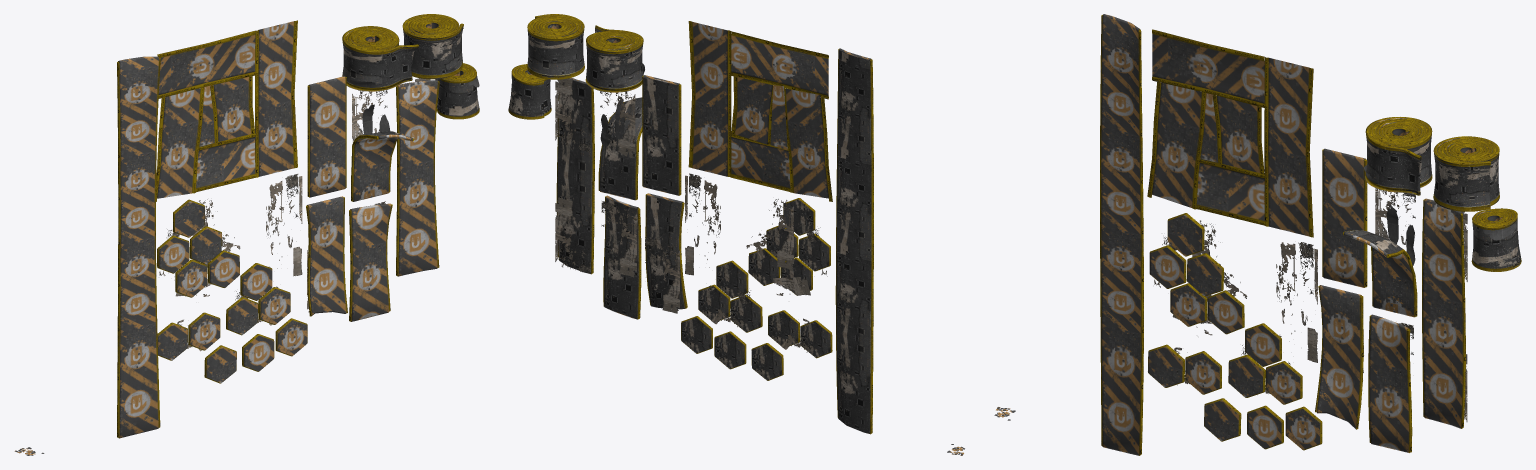
File: magneticsurfaces.fbx
The picture shows the model from 3 angles, left to right: view 1: azimuth 30°, elevation 25°; view 2: azimuth 150°, elevation 25°; view 3: azimuth 330°, elevation 25°; orthographic projection. The views are drawn at different scales.
Parts seen in each view (by area): view 1: SM_MagneticSurfaceFiller_2x2_A.mo, SM_MagneticSurfaceTape_F.mo, SM_MagneticSurfaceTape_E.mo, SM_MagneticSurfaceHex_F.mo, SM_MagneticSurfaceTape_A.mo, SM_MagneticSurfaceTape_B.mo, SM_MagneticSurfaceTape_C.mo, SM_MagneticSurfaceRoll_E.mo, SM_MagneticSurfaceTape_D.mo, SM_MagneticSurfaceRoll_F.mo, SM_MagneticSurfaceHex_E.mo, SM_MagneticSurfaceHex_D.mo (+5 smaller); view 2: SM_MagneticSurfaceFiller_2x2_A.mo, SM_MagneticSurfaceTape_F.mo, SM_MagneticSurfaceTape_E.mo, SM_MagneticSurfaceHex_F.mo, SM_MagneticSurfaceTape_A.mo, SM_MagneticSurfaceTape_B.mo, SM_MagneticSurfaceTape_C.mo, SM_MagneticSurfaceTape_D.mo, SM_MagneticSurfaceRoll_F.mo, SM_MagneticSurfaceRoll_E.mo, SM_MagneticSurfaceHex_E.mo, SM_MagneticSurfaceHex_D.mo (+5 smaller); view 3: SM_MagneticSurfaceFiller_2x2_A.mo, SM_MagneticSurfaceTape_F.mo, SM_MagneticSurfaceTape_E.mo, SM_MagneticSurfaceHex_F.mo, SM_MagneticSurfaceTape_A.mo, SM_MagneticSurfaceTape_C.mo, SM_MagneticSurfaceTape_B.mo, SM_MagneticSurfaceTape_D.mo, SM_MagneticSurfaceRoll_E.mo, SM_MagneticSurfaceRoll_F.mo, SM_MagneticSurfaceHex_E.mo, SM_MagneticSurfaceRoll_D.mo (+5 smaller).
Part boxes in pixels (x1,y1,x2,y2): SM_MagneticSurfaceFiller_2x2_A.mo: (156,20,297,201); SM_MagneticSurfaceTape_F.mo: (117,56,160,438); SM_MagneticSurfaceTape_E.mo: (396,78,439,276); SM_MagneticSurfaceHex_F.mo: (157,199,240,297); SM_MagneticSurfaceTape_A.mo: (307,76,346,197); SM_MagneticSurfaceTape_B.mo: (349,201,392,321); SM_MagneticSurfaceTape_C.mo: (306,196,347,316); SM_MagneticSurfaceRoll_E.mo: (342,26,419,91); SM_MagneticSurfaceTape_D.mo: (351,90,414,201); SM_MagneticSurfaceRoll_F.mo: (402,14,463,79); SM_MagneticSurfaceHex_E.mo: (226,263,290,335); SM_MagneticSurfaceHex_D.mo: (157,312,220,360); SM_MagneticSurfaceFiller_2x2_A.mo: (688,21,832,201); SM_MagneticSurfaceTape_F.mo: (835,48,873,434); SM_MagneticSurfaceTape_E.mo: (555,77,594,274); SM_MagneticSurfaceHex_F.mo: (746,198,830,295); SM_MagneticSurfaceTape_A.mo: (642,75,681,195); SM_MagneticSurfaceTape_B.mo: (601,195,641,319); SM_MagneticSurfaceTape_C.mo: (645,193,687,313); SM_MagneticSurfaceTape_D.mo: (598,91,642,200); SM_MagneticSurfaceRoll_F.mo: (527,14,584,79); SM_MagneticSurfaceRoll_E.mo: (585,25,644,92); SM_MagneticSurfaceHex_E.mo: (698,260,762,332); SM_MagneticSurfaceHex_D.mo: (768,310,832,358); SM_MagneticSurfaceFiller_2x2_A.mo: (1147,29,1313,237); SM_MagneticSurfaceTape_F.mo: (1100,14,1143,455); SM_MagneticSurfaceTape_E.mo: (1422,198,1467,428); SM_MagneticSurfaceHex_F.mo: (1149,213,1247,335); SM_MagneticSurfaceTape_A.mo: (1322,148,1367,287); SM_MagneticSurfaceTape_C.mo: (1315,285,1363,429); SM_MagneticSurfaceTape_B.mo: (1368,314,1413,452); SM_MagneticSurfaceTape_D.mo: (1343,188,1417,317); SM_MagneticSurfaceRoll_E.mo: (1364,117,1432,195); SM_MagneticSurfaceRoll_F.mo: (1433,136,1499,211); SM_MagneticSurfaceHex_E.mo: (1228,323,1302,404); SM_MagneticSurfaceRoll_D.mo: (1471,208,1521,271).
Size of the model in its own units: 651 by 513 by 105.
